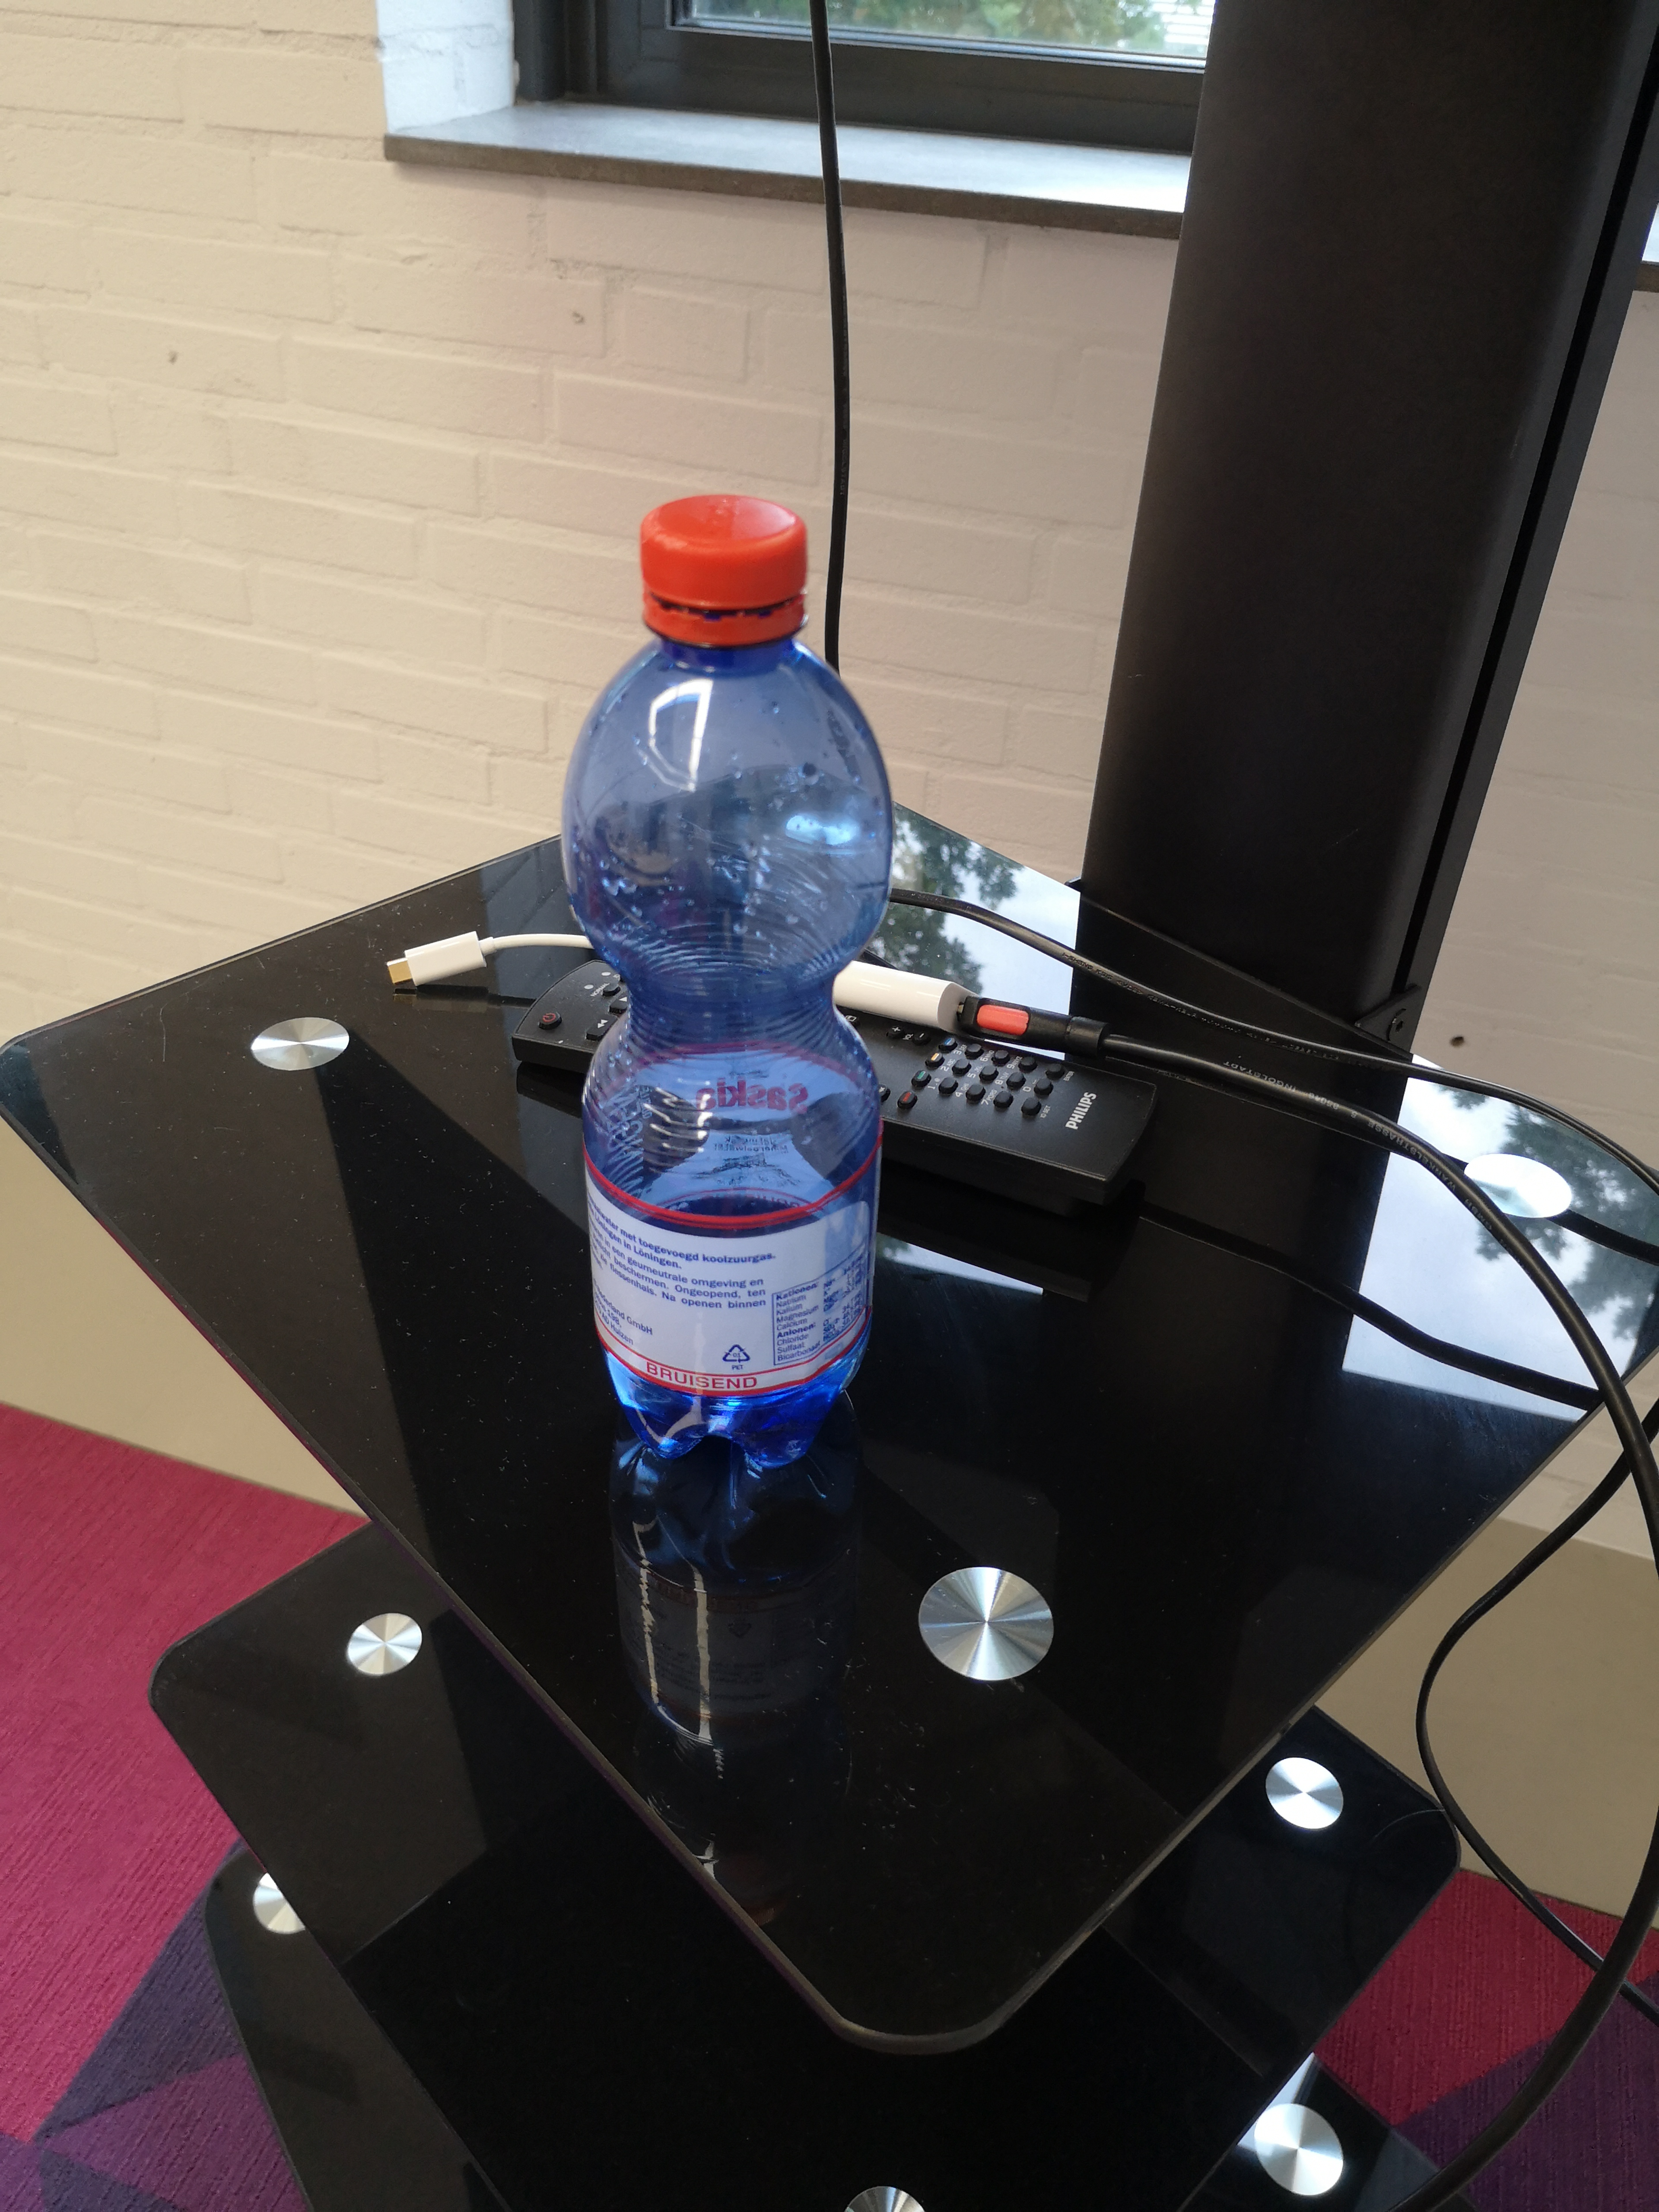plastic_bottle: (537, 460, 925, 1500)
